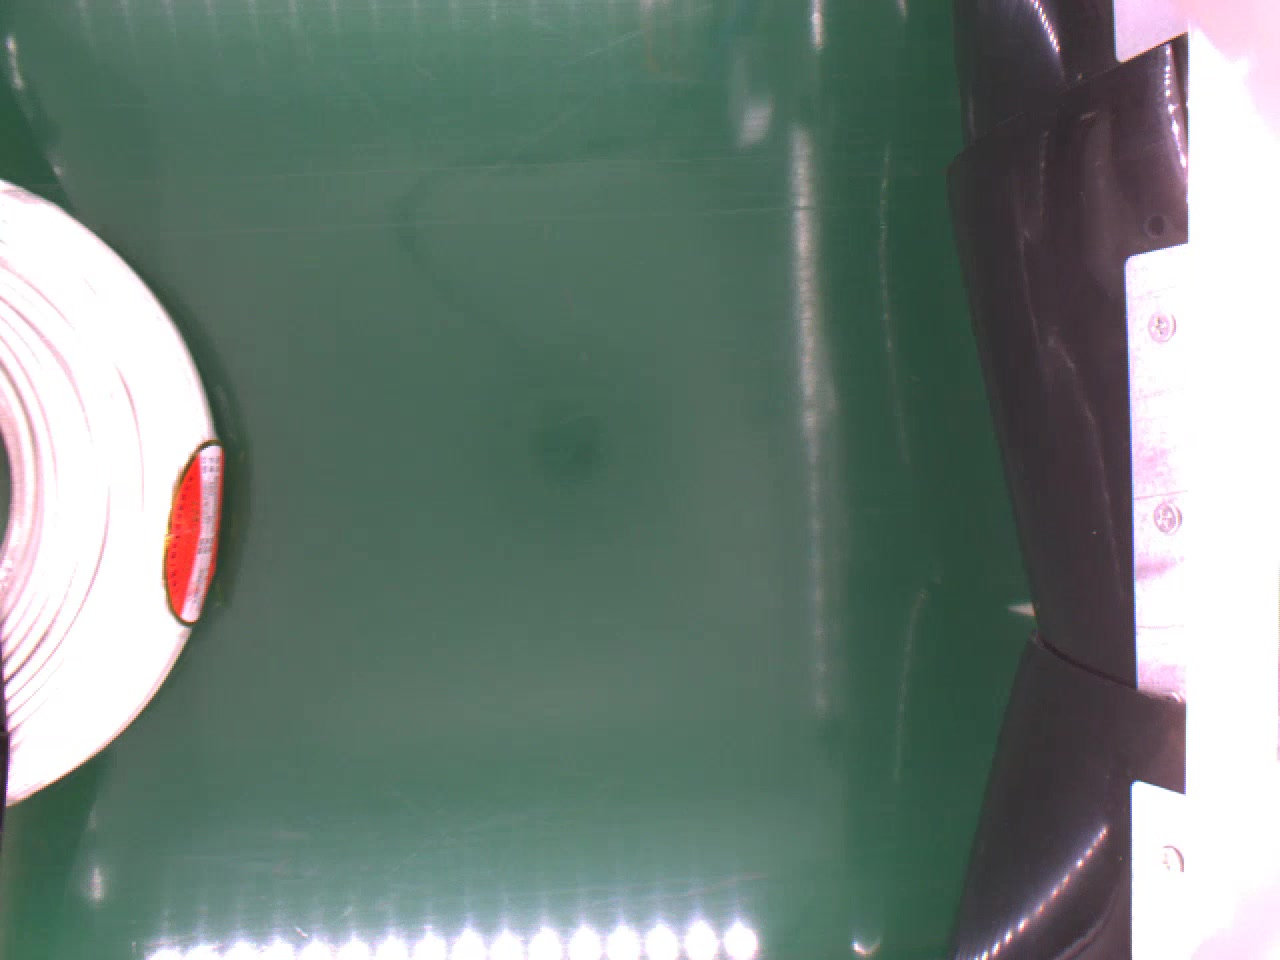white: (0, 175, 224, 813)
